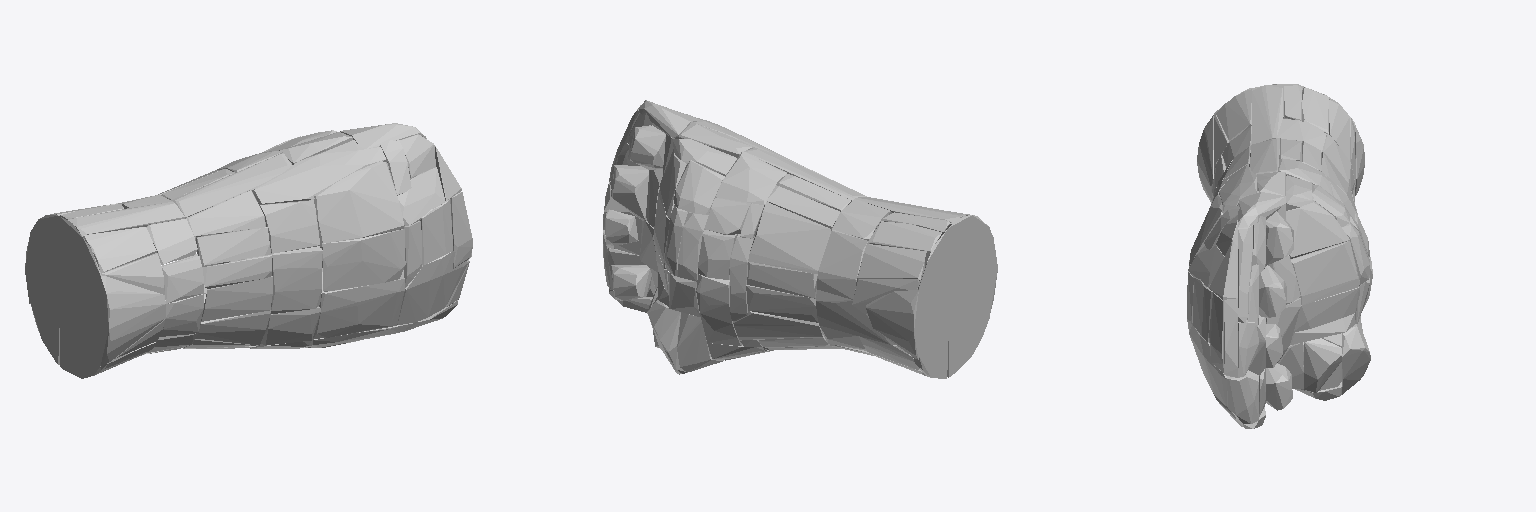
Rendered from LWristYaw_vahcd.obj.
3 views of the same model, side by side, from view 1: azimuth 30°, elevation 25°; view 2: azimuth 150°, elevation 25°; view 3: azimuth 270°, elevation 25° (orthographic).
Visible parts, largest first — view 1: convex_15, convex_102, convex_98, convex_0, convex_82, convex_96, convex_79, convex_28, convex_56, convex_61, convex_53, convex_57 (+23 smaller); view 2: convex_15, convex_72, convex_3, convex_16, convex_77, convex_4, convex_14, convex_37, convex_43, convex_89, convex_44, convex_47 (+28 smaller); view 3: convex_5, convex_88, convex_18, convex_85, convex_91, convex_109, convex_106, convex_38, convex_108, convex_65, convex_12, convex_13 (+28 smaller).
Boxes of the visible parts, x1,y1,x2,y2 form: convex_15: [30, 215, 101, 351]; convex_102: [314, 161, 404, 242]; convex_98: [322, 229, 405, 291]; convex_0: [100, 276, 165, 365]; convex_82: [252, 140, 386, 203]; convex_96: [313, 278, 404, 338]; convex_79: [271, 246, 322, 313]; convex_28: [397, 251, 468, 324]; convex_56: [171, 153, 291, 216]; convex_61: [260, 200, 319, 253]; convex_53: [201, 276, 272, 321]; convex_57: [186, 190, 265, 235]; convex_15: [918, 215, 989, 355]; convex_72: [748, 202, 830, 273]; convex_3: [866, 290, 918, 359]; convex_16: [817, 230, 868, 299]; convex_77: [716, 151, 786, 204]; convex_4: [696, 274, 742, 345]; convex_14: [857, 244, 926, 280]; convex_37: [816, 290, 895, 344]; convex_43: [733, 311, 822, 339]; convex_89: [674, 160, 724, 214]; convex_44: [746, 285, 818, 322]; convex_47: [747, 261, 815, 298]; convex_5: [1291, 241, 1359, 305]; convex_88: [1286, 200, 1349, 258]; convex_18: [1252, 85, 1283, 143]; convex_85: [1293, 287, 1359, 332]; convex_91: [1304, 338, 1341, 392]; convex_109: [1342, 322, 1370, 394]; convex_106: [1227, 370, 1258, 423]; convex_38: [1238, 225, 1252, 322]; convex_108: [1216, 89, 1251, 141]; convex_65: [1259, 265, 1286, 317]; convex_12: [1266, 211, 1293, 265]; convex_13: [1238, 192, 1285, 227].
Bounding box in the file's own units: 1.57 × 0.8848 × 0.6736.